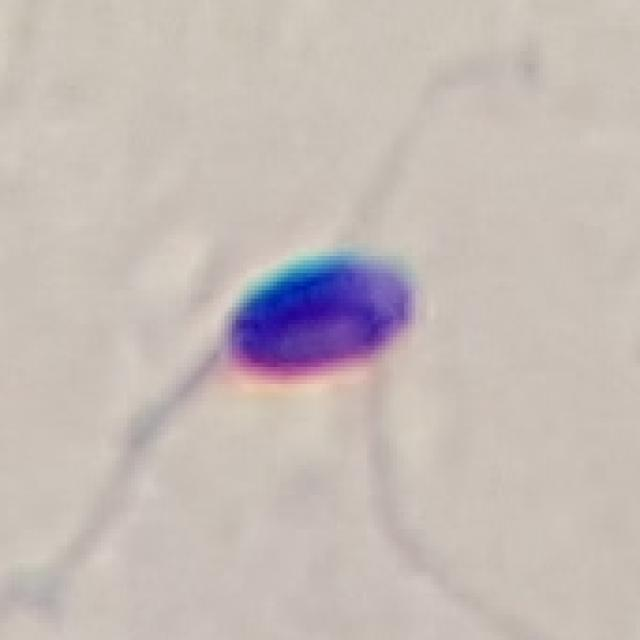normal sperm: (164, 253, 417, 414)
